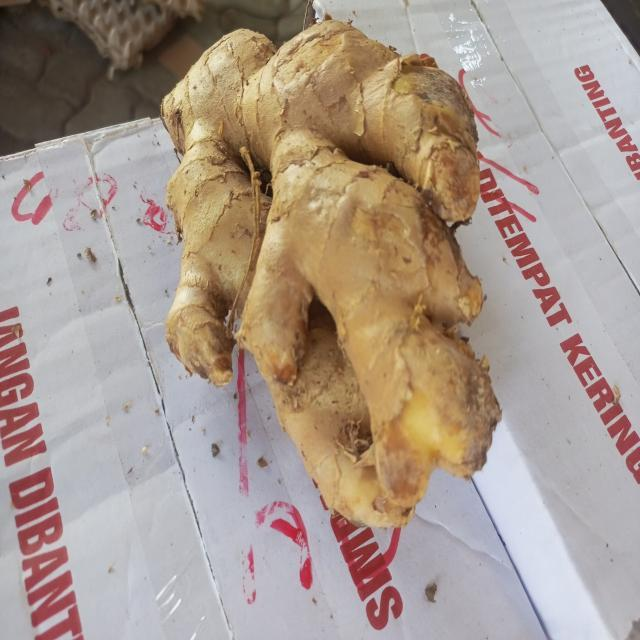ginger: (166, 27, 490, 510)
